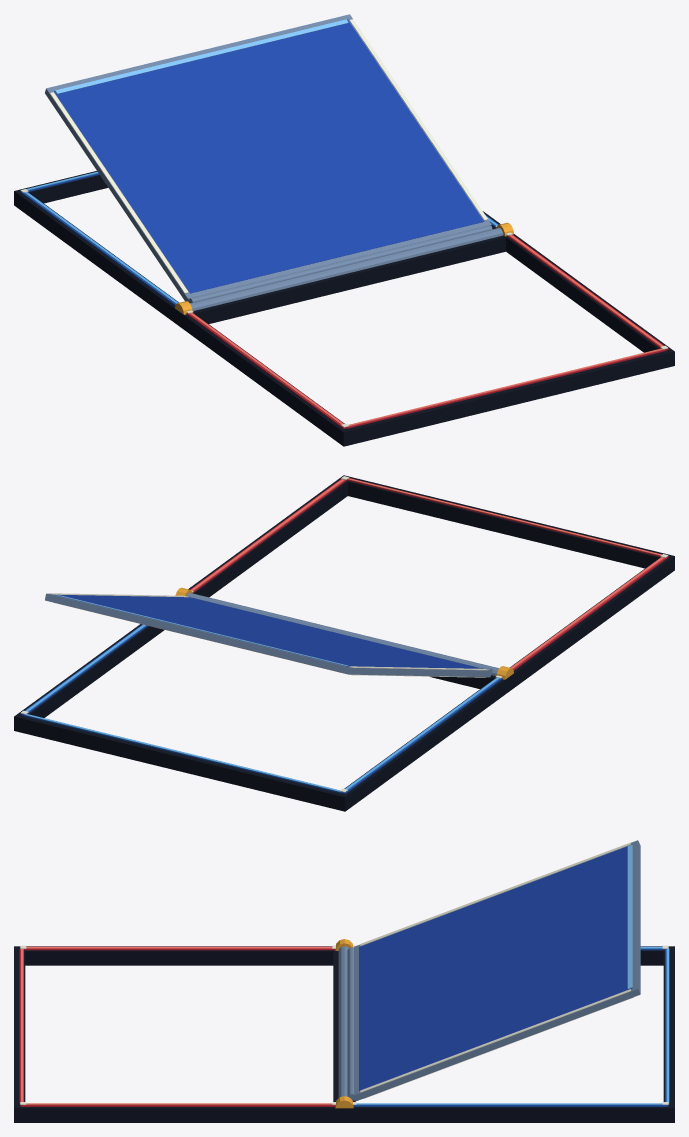
The model's file is jump_flip_pair_flip_03.obj.
3 renders of one model, top to bottom at view 1: azimuth 30°, elevation 25°; view 2: azimuth 150°, elevation 25°; view 3: azimuth 270°, elevation 25°, orthographic.
Parts seen in each view (by area): view 1: blue_top, red_end_shell, red_side_shell, reversible_leaf, blue_side_shell, hinge_axle, blue_side_trim, red_border, red_rim_light, leaf_hinge, blue_end_bar, blue_end_shell (+2 smaller); view 2: blue_top, blue_end_shell, red_side_shell, blue_side_shell, red_end_shell, reversible_leaf, red_rim_light, red_border, blue_rim_light, blue_border, hinge_axle, leaf_hinge (+1 smaller); view 3: blue_top, red_side_shell, blue_side_shell, reversible_leaf, red_end_shell, red_border, red_rim_light, blue_side_trim, blue_end_shell, hinge_axle, blue_rim_light, leaf_hinge (+2 smaller).
Part boxes in pixels (x1,y1,x2,y2): blue_top: (54,19,484,293); red_end_shell: (179,234,674,445); red_side_shell: (179,234,674,446); reversible_leaf: (45,14,491,301); blue_side_shell: (14,188,500,325); hinge_axle: (190,228,503,310); blue_side_trim: (50,19,487,293); red_border: (186,234,668,429); red_rim_light: (189,235,662,426); leaf_hinge: (189,225,492,302); blue_end_bar: (55,19,348,93); blue_end_shell: (14,171,178,325); blue_top: (54,594,482,668); blue_end_shell: (14,675,509,811); red_side_shell: (188,475,674,688); blue_side_shell: (14,624,509,811); red_end_shell: (344,475,674,677); reversible_leaf: (45,593,491,677); red_rim_light: (191,478,664,668); red_border: (190,479,668,670); blue_rim_light: (24,624,499,792); blue_border: (20,624,502,794); hinge_axle: (187,593,498,675); leaf_hinge: (190,595,492,677); blue_top: (359,844,632,1090); red_side_shell: (14,946,344,1122); blue_side_shell: (344,946,674,1122); reversible_leaf: (353,840,640,1101); red_end_shell: (14,946,344,1122); red_border: (19,946,335,1106); red_rim_light: (21,947,332,1104); blue_side_trim: (360,842,630,1092); blue_end_shell: (344,946,674,1122); hinge_axle: (338,946,348,1097); blue_rim_light: (356,947,669,1104); leaf_hinge: (347,947,355,1100).
Size of the model in its own units: 11.6 by 4.25 by 20.
